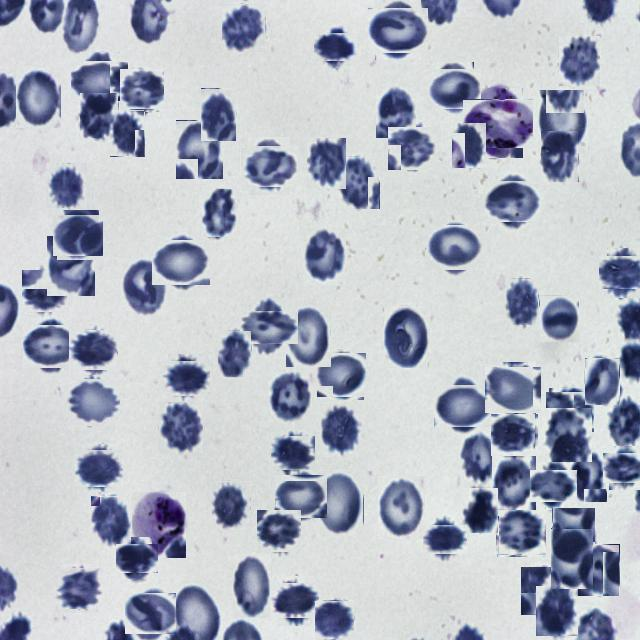red blood cell: (538, 89, 588, 153), (317, 470, 364, 536), (378, 476, 425, 539), (384, 305, 430, 368), (47, 236, 95, 296), (176, 120, 224, 179), (16, 66, 61, 128), (428, 222, 481, 274), (286, 306, 331, 367), (156, 236, 208, 288), (66, 376, 118, 428), (487, 364, 539, 416), (372, 4, 424, 56), (542, 408, 592, 462), (551, 528, 594, 589), (438, 380, 489, 431), (233, 553, 272, 618), (26, 322, 76, 372), (244, 142, 294, 192), (122, 259, 166, 315), (303, 228, 346, 285), (488, 177, 538, 226), (496, 507, 546, 556), (552, 507, 596, 562), (76, 56, 124, 106), (492, 456, 536, 510), (336, 156, 380, 209), (278, 472, 326, 520), (268, 372, 314, 422), (159, 401, 203, 453), (521, 566, 567, 615), (320, 404, 362, 457), (430, 66, 478, 112), (318, 352, 366, 398), (458, 432, 500, 484), (578, 544, 620, 596), (389, 126, 436, 172), (246, 304, 292, 350), (492, 412, 538, 458), (55, 212, 101, 258), (128, 591, 174, 637), (222, 4, 266, 52), (536, 586, 578, 636), (307, 137, 347, 189), (55, 566, 101, 611), (91, 496, 132, 546), (559, 36, 600, 86), (376, 87, 416, 138), (570, 448, 607, 502), (72, 328, 116, 373), (541, 130, 579, 182), (548, 390, 592, 434), (23, 269, 67, 313), (212, 481, 251, 530), (201, 88, 237, 141), (258, 509, 300, 554), (540, 295, 580, 342), (120, 68, 163, 111), (46, 163, 87, 208), (78, 446, 120, 489), (273, 580, 316, 622), (80, 92, 119, 138), (165, 357, 207, 399), (202, 188, 238, 237), (110, 110, 145, 158), (585, 358, 620, 405), (462, 488, 498, 533), (452, 122, 487, 168), (534, 466, 574, 506), (218, 330, 252, 377), (273, 434, 313, 473), (315, 600, 354, 640), (506, 278, 539, 325), (603, 252, 640, 293), (426, 520, 464, 558), (119, 540, 155, 576), (317, 29, 353, 64), (606, 449, 640, 486)
trophozoite: (468, 93, 528, 153), (132, 492, 186, 558)
